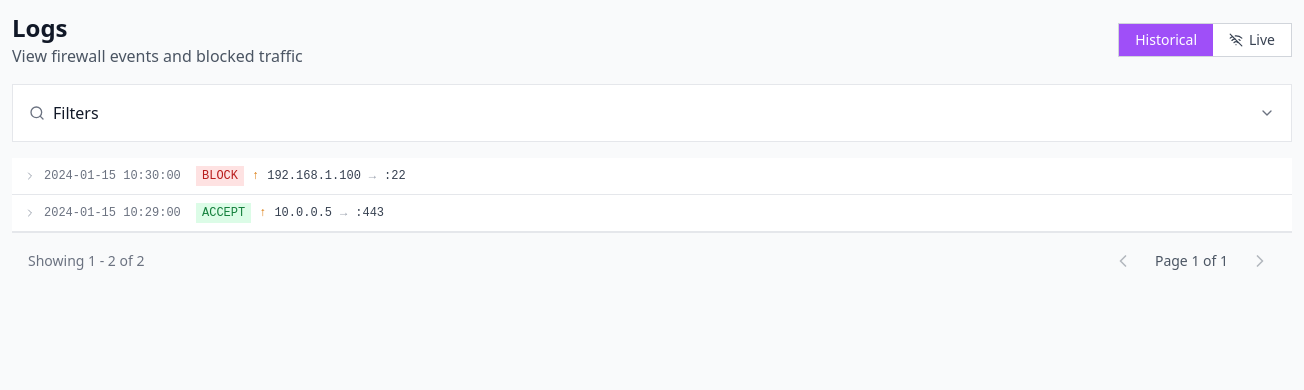
Test: Logs Page › Filter Disclosure State Persistence › filter inputs become visible after clicking expand
Expected: the heading "Logs" is shown, [12,11,68,44]
Expected: the field with placeholder "e.g. 192.168.1" is not shown
Click the button "Filters": x=76, y=113 [13,85,1291,141]
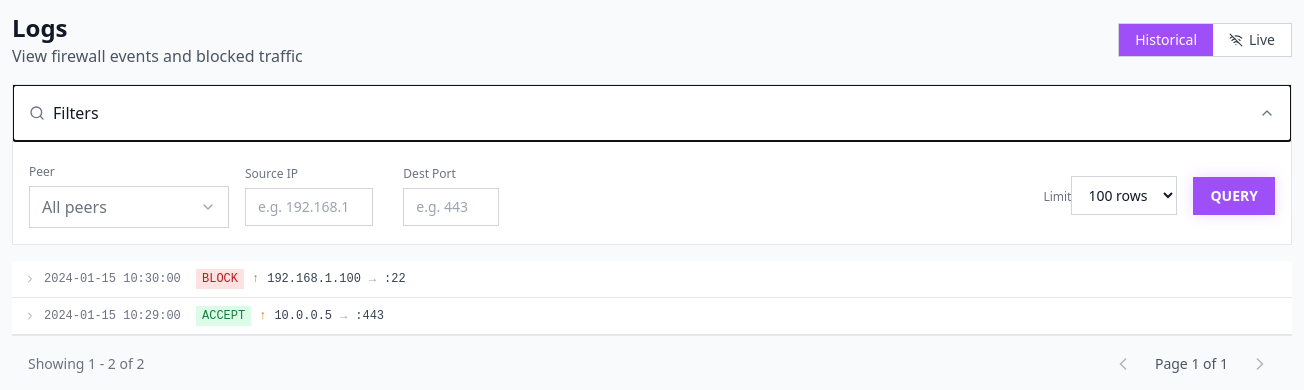
Result: the field with placeholder "e.g. 192.168.1" is shown at [245,188,373,226]
Result: the field with placeholder "e.g. 443" is shown at [403,188,499,226]
